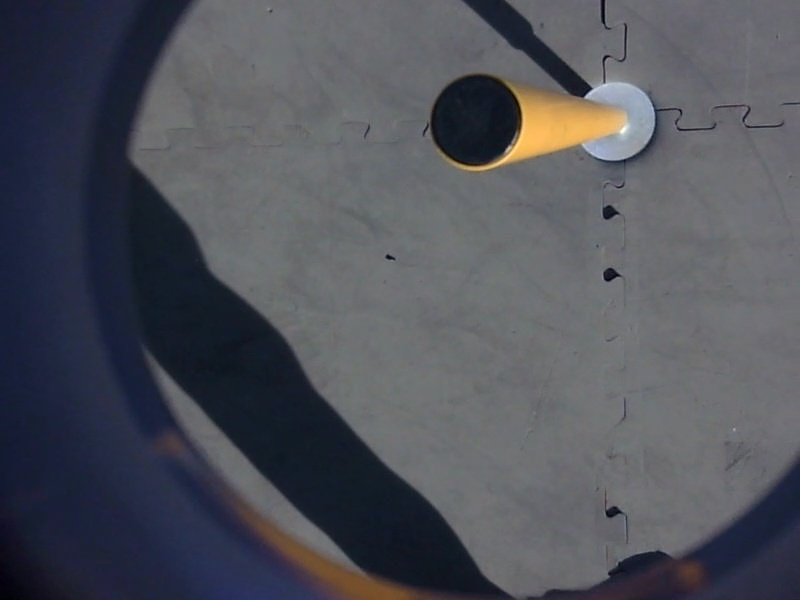tip: (420, 63, 530, 184)
